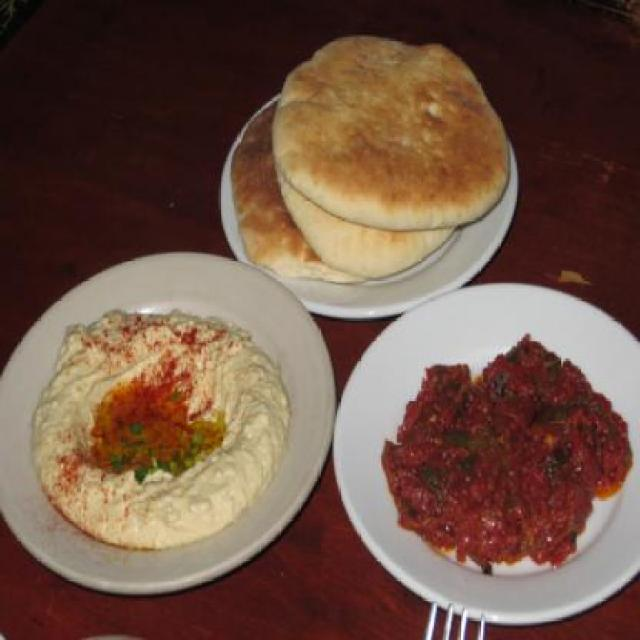eggplant: (380, 333, 632, 582)
hummus: (26, 303, 303, 572)
